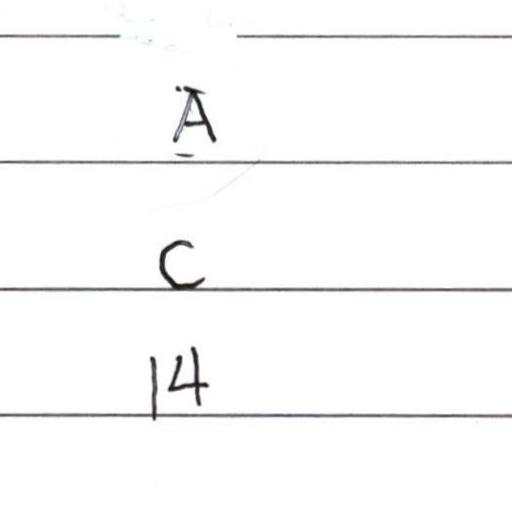ans: (145, 343, 209, 417), (156, 238, 207, 291), (172, 85, 216, 145)
